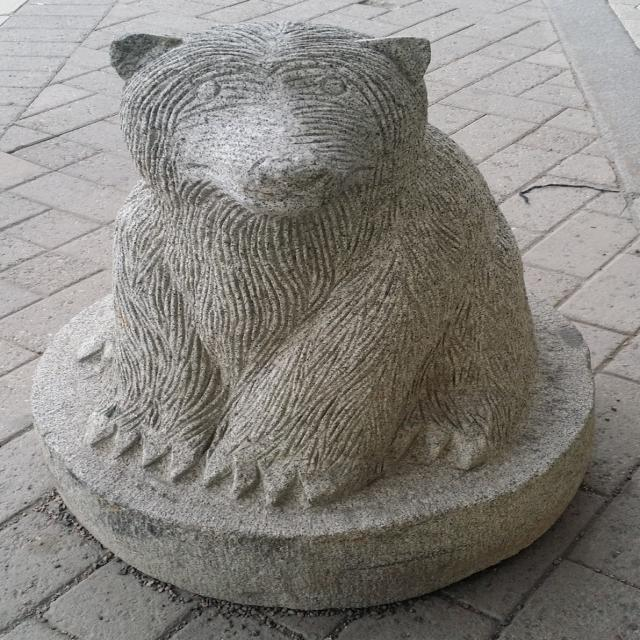Bear: (77, 19, 541, 503)
